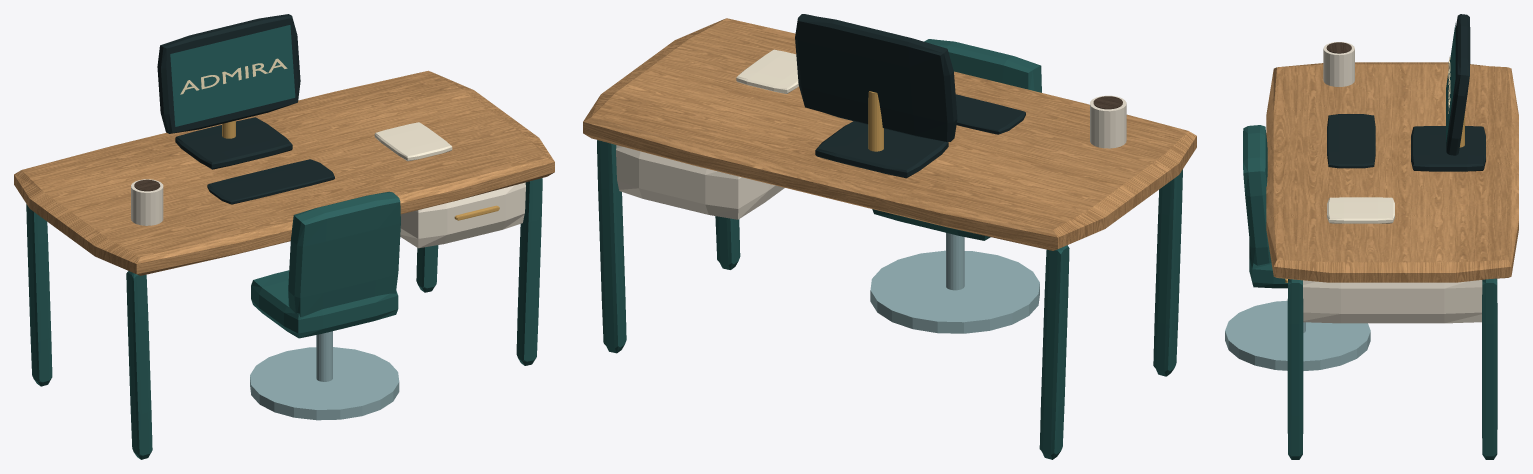
File: hiperreal-hd.glb
3 views of the same model, side by side, from view 1: azimuth 30°, elevation 25°; view 2: azimuth 150°, elevation 25°; view 3: azimuth 270°, elevation 25° (orthographic). The views are drawn at different scales.
Visible parts, largest first — view 1: Native component 0, Native component 10, Native component 16, Native component 8, Native component 4, Native component 1, Native component 5, Sign ADMIRA; view 2: Native component 0, Native component 16, Native component 10, Native component 8, Native component 1, Native component 5, Native component 2; view 3: Native component 0, Native component 10, Native component 1, Native component 16, Native component 8, Native component 5, Native component 4.
Boxes of the visible parts, x1,y1,x2,y2 form: Native component 0: (14, 70, 554, 275); Native component 10: (26, 178, 542, 459); Native component 16: (157, 14, 334, 204); Native component 8: (250, 331, 399, 420); Native component 4: (170, 25, 295, 126); Native component 1: (131, 179, 525, 248); Native component 5: (374, 122, 452, 161); Sign ADMIRA: (180, 58, 287, 94); Native component 0: (583, 18, 1196, 250); Native component 16: (795, 14, 1025, 178); Native component 10: (597, 39, 1182, 459); Native component 8: (870, 233, 1039, 333); Native component 1: (616, 95, 1126, 219); Native component 5: (736, 49, 798, 93); Native component 2: (868, 91, 883, 151); Native component 0: (1266, 62, 1518, 282); Native component 10: (1243, 125, 1497, 459); Native component 1: (1303, 42, 1482, 323); Native component 16: (1327, 14, 1485, 171); Native component 8: (1225, 300, 1370, 370); Native component 5: (1327, 197, 1394, 223); Native component 4: (1446, 23, 1455, 143).
Bounding box in the file's own units: 2.05 × 1.43 × 1.21.
Materials: 10 (2 with a texture image).
